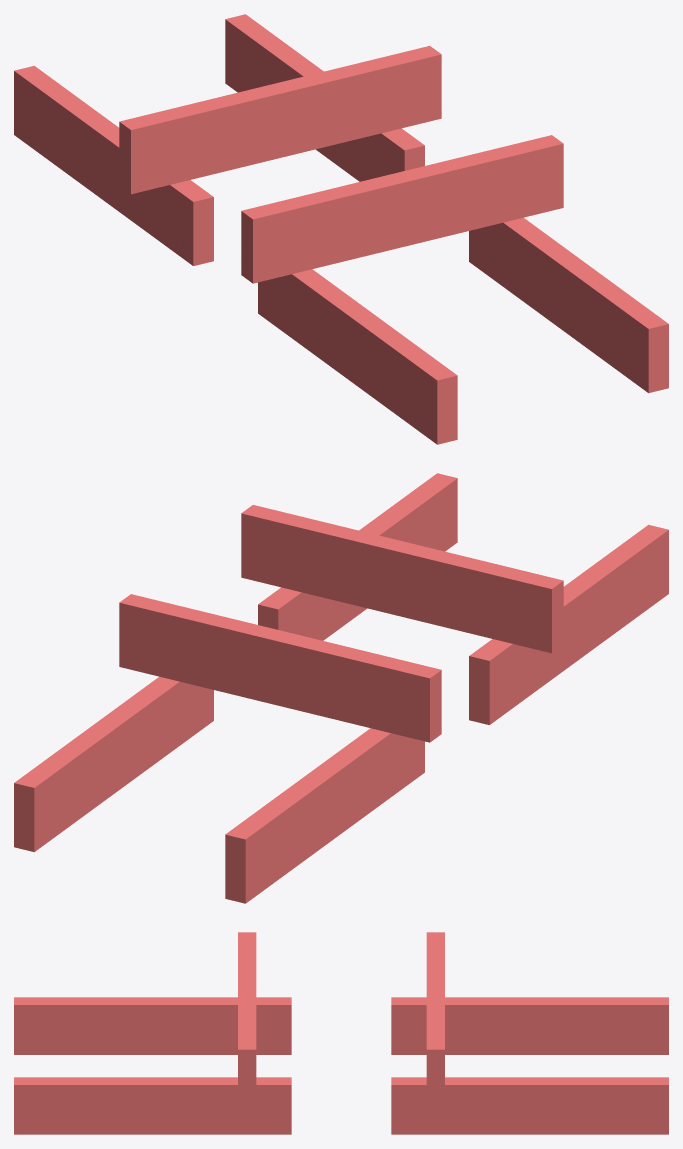
The model's file is fort_curricullum.dae.
The picture shows the model from 3 angles, top to bottom: view 1: azimuth 30°, elevation 25°; view 2: azimuth 150°, elevation 25°; view 3: azimuth 270°, elevation 25°; orthographic projection. The views are drawn at different scales.
Parts seen in each view (by area): view 1: base (×6); view 2: base (×6); view 3: base (×6).
Boxes of the visible parts, bbox=[...] form: base (×6): bbox=[14, 14, 668, 444]; base (×6): bbox=[14, 473, 668, 903]; base (×6): bbox=[14, 932, 668, 1134].
Size of the model in its own units: 0.1177 by 0.2777 by 0.0467.
